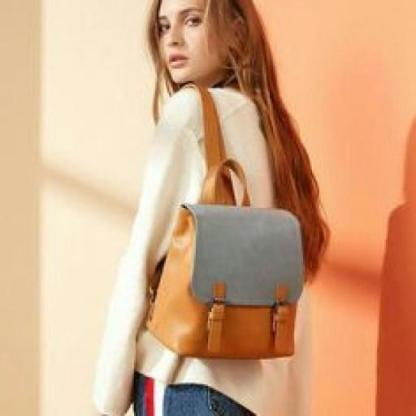bag: (146, 155, 310, 373)
person: (91, 1, 333, 416)
